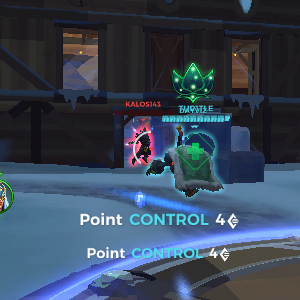model: (124, 124, 154, 164)
